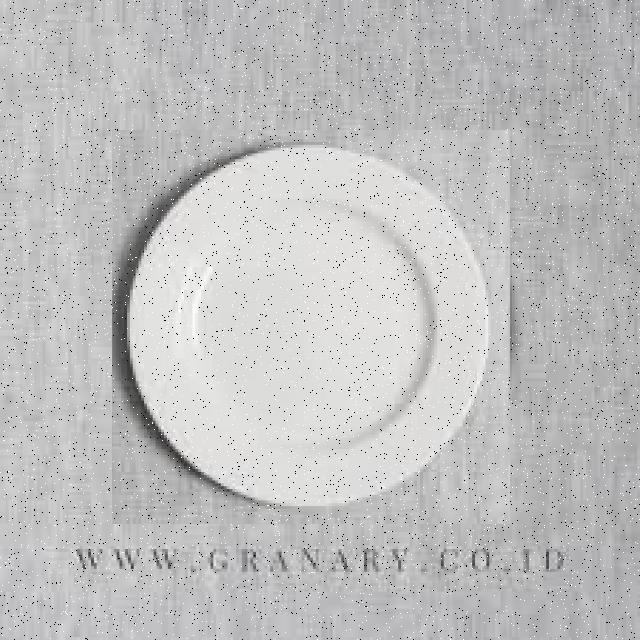plate: (112, 130, 510, 524)
